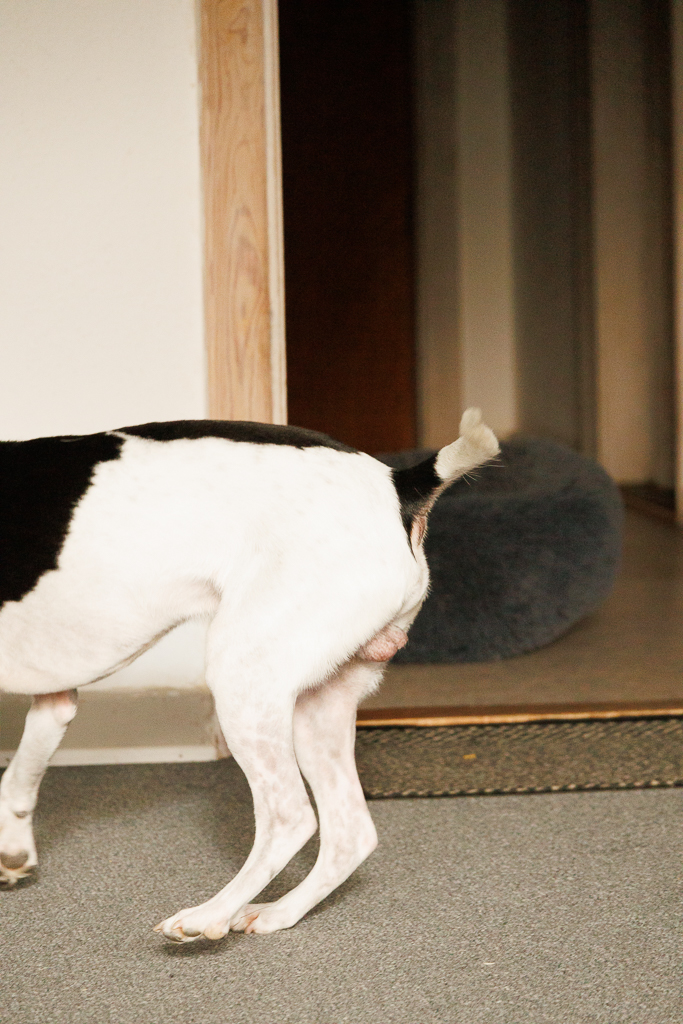Dog: (0, 394, 508, 956)
